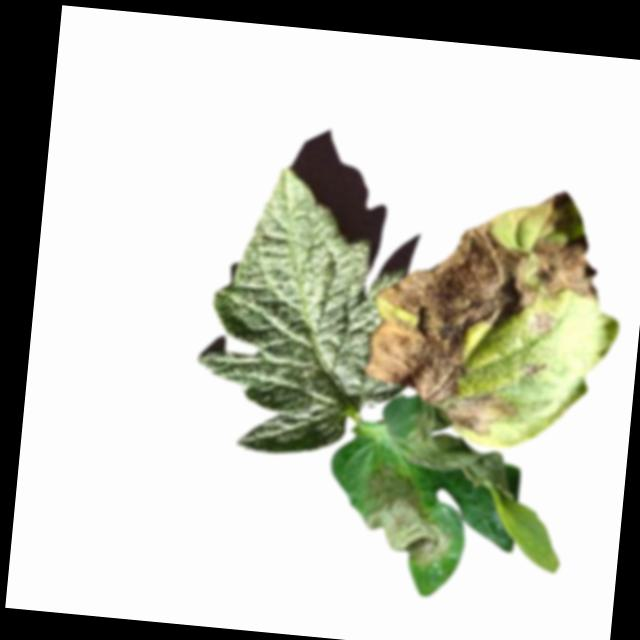Late_blight: (354, 208, 536, 441), (394, 401, 522, 501), (357, 463, 460, 570), (527, 230, 605, 305), (526, 305, 555, 338), (522, 354, 545, 379)
